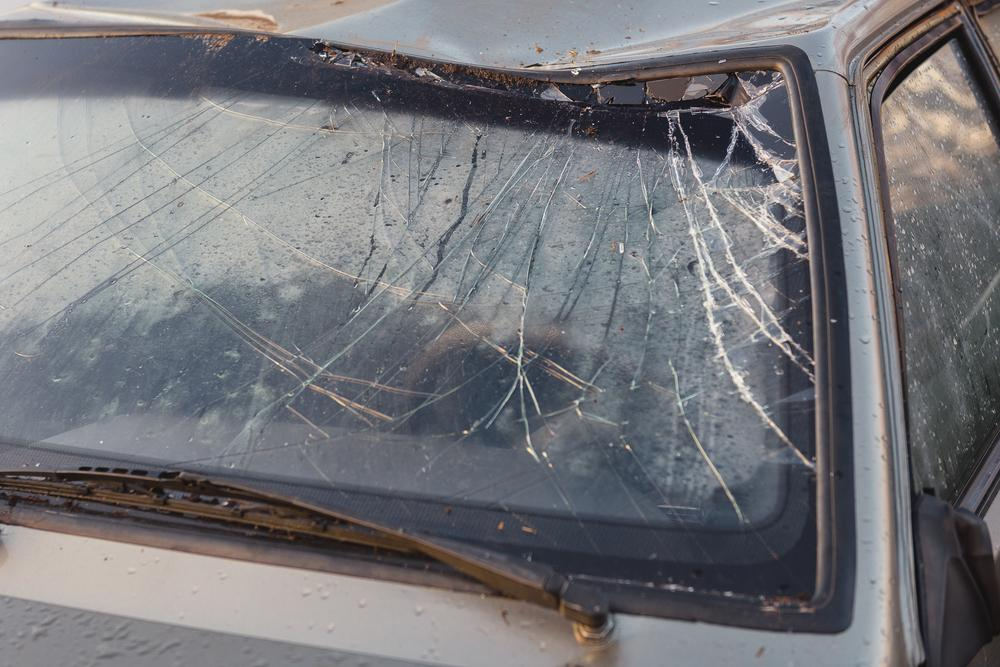dent: (314, 3, 852, 68)
glass shatter: (0, 35, 822, 605)
